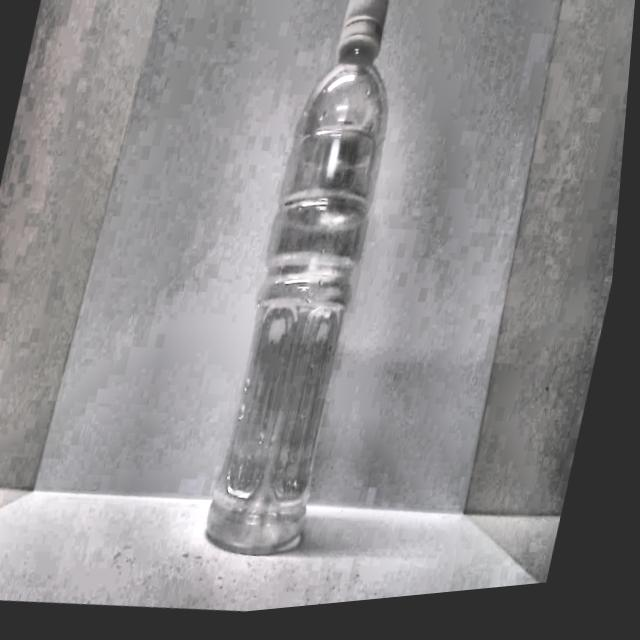Bottles: (190, 0, 473, 581)
